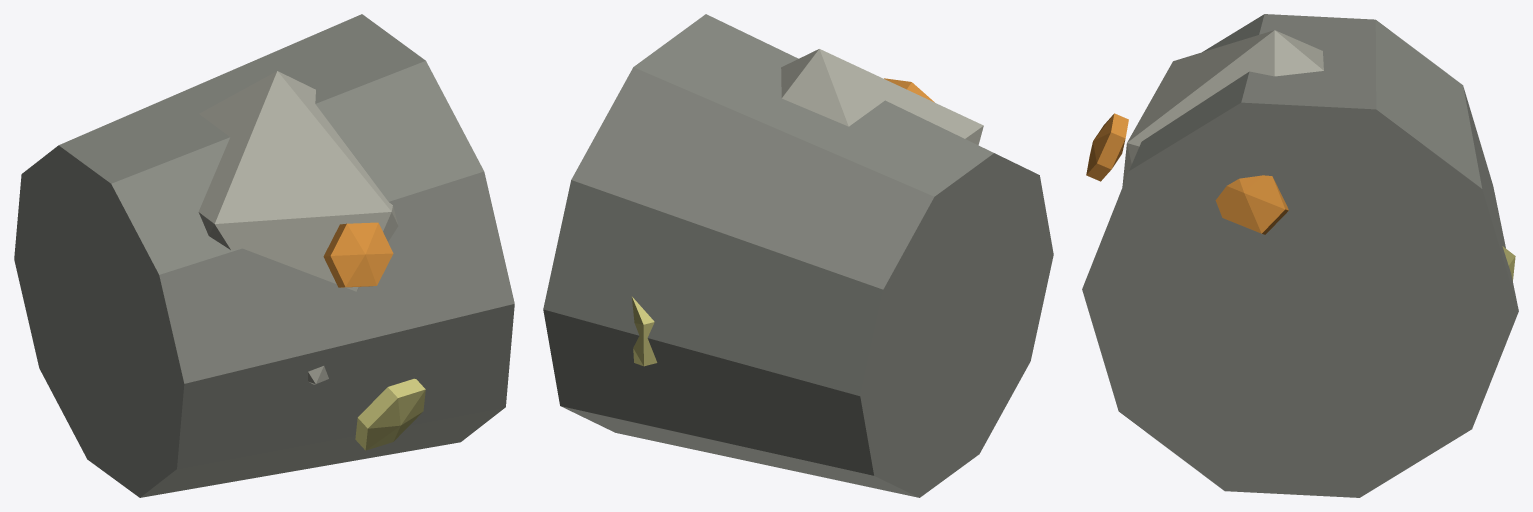
The model's file is old_stackstone_arm_r.glb.
3 renders of one model, left to right at view 1: azimuth 30°, elevation 25°; view 2: azimuth 150°, elevation 25°; view 3: azimuth 270°, elevation 25°, orthographic.
Parts seen in each view (by area): view 1: old_stackstone_arm_r; view 2: old_stackstone_arm_r; view 3: old_stackstone_arm_r.
Boxes of the visible parts, <box> form: old_stackstone_arm_r: <box>14,14,514,497</box>; old_stackstone_arm_r: <box>543,14,1053,497</box>; old_stackstone_arm_r: <box>1082,14,1518,497</box>.
Bounding box in the file's own units: 0.2951 × 0.3342 × 0.3395.
